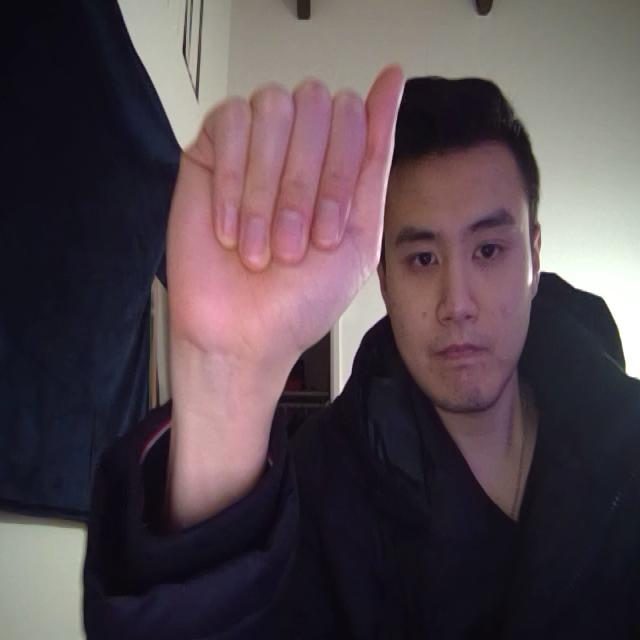A: (144, 35, 428, 430)
